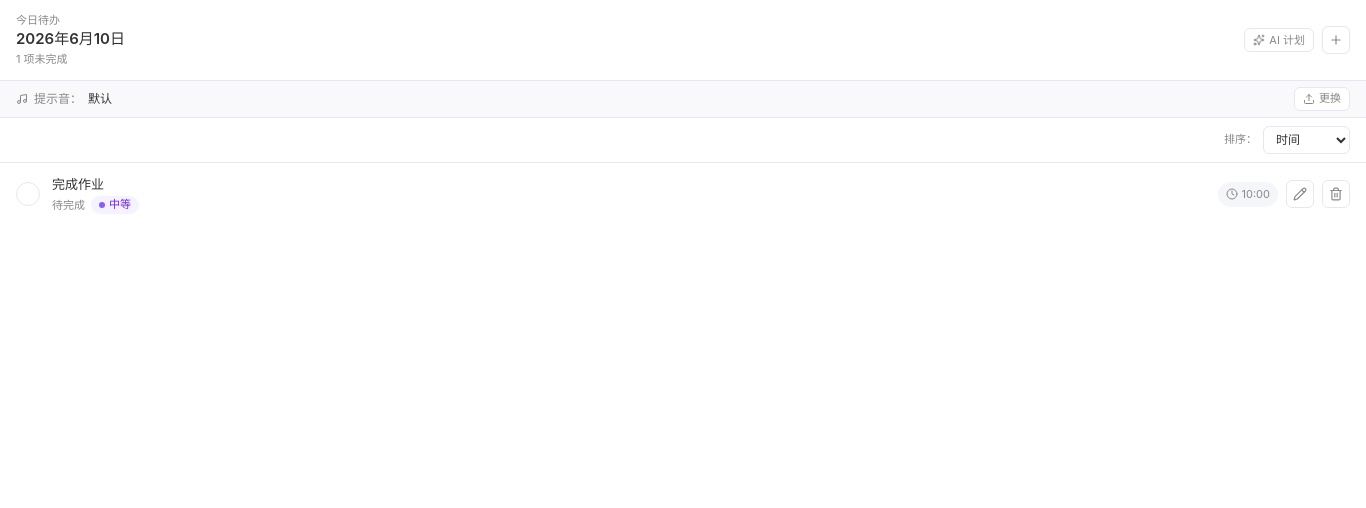
it: TodoPanel › prefills the edit form with the existing reminder time
Click the button named "编辑：完成作业" at (1300, 194), box [1286,180,1314,208]
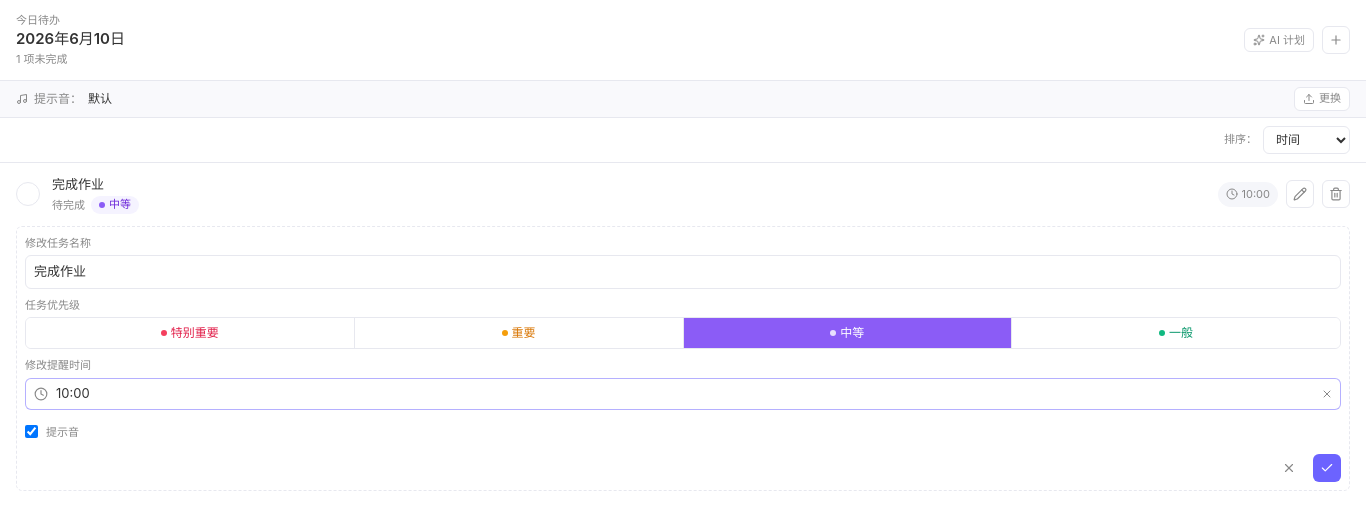
Result: the button with test id "todo-edit-reminder-time-trigger" reads "10:00" at [25,378,1341,410]
